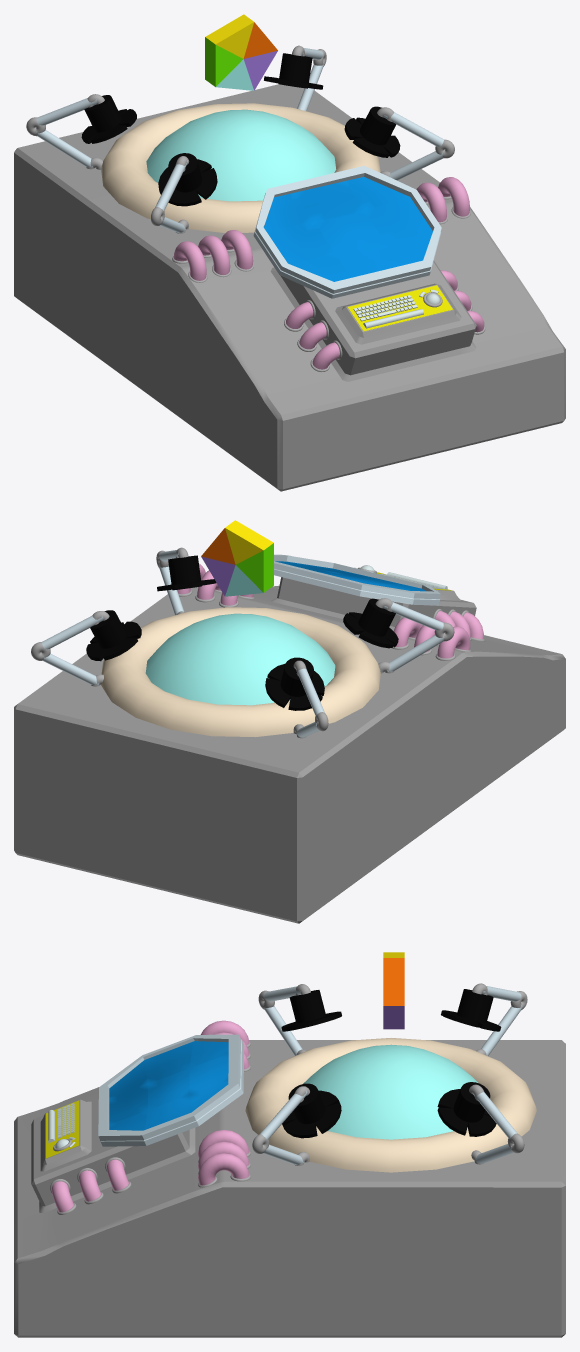
File: NAV_CodexStation_ModelwithAnimation_7152022.fbx
3 renders of one model, top to bottom at view 1: azimuth 30°, elevation 25°; view 2: azimuth 150°, elevation 25°; view 3: azimuth 270°, elevation 25°, orthographic. The views are drawn at different scales.
Visible parts, largest first — view 1: Desk, Flat_Screen, Projector_Sphere, Projector_Sphere_Ring, Projector (×4), Computer_Edge, Pipe_from_Keyboard8 (×5), Keyboard_Base, Rod1 (×2), Yellow_Slice, Green_Slice, Purple_Slice (+3 smaller); view 2: Desk, Projector_Sphere_Ring, Projector_Sphere, Projector (×4), Computer_Edge, Rod1 (×3), Rod (×2), Yellow_Slice, Pipe_from_Keyboard8 (×2), Green_Slice, Flat_Screen, Blue_Slice (+2 smaller); view 3: Desk, Projector_Sphere_Ring, Projector_Sphere, Flat_Screen, Projector (×4), Computer_Edge, Pipe_from_Keyboard8 (×4), Pipe_from_Keyboard (×3), Rod1 (×2), Rod (×2), Red_Slice, Keyboard_Base (+1 smaller).
Part boxes in pixels (x1,y1,x2,y2): Desk: (14,84,565,491); Flat_Screen: (264,177,432,281); Projector_Sphere: (146,109,336,201); Projector_Sphere_Ring: (101,103,380,233); Projector (×4): (81,53,400,206); Computer_Edge: (253,165,441,298); Pipe_from_Keyboard8 (×5): (173,177,469,280); Keyboard_Base: (347,285,452,331); Rod1 (×2): (36,98,444,146); Yellow_Slice: (205,14,253,58); Green_Slice: (205,37,242,86); Purple_Slice: (243,50,277,90); Desk: (14,577,565,923); Projector_Sphere_Ring: (101,607,380,737); Projector_Sphere: (145,613,335,705); Projector (×4): (86,555,398,710); Computer_Edge: (274,554,440,605); Rod1 (×3): (41,602,443,715); Rod (×2): (42,635,444,685); Yellow_Slice: (225,520,273,564); Pipe_from_Keyboard8 (×2): (393,617,470,658); Green_Slice: (236,543,273,592); Flat_Screen: (275,561,426,591); Blue_Slice: (225,565,262,596); Desk: (14,1040,565,1337); Projector_Sphere_Ring: (245,1038,536,1172); Projector_Sphere: (303,1044,477,1139); Flat_Screen: (109,1041,228,1130); Projector (×4): (281,989,501,1138); Computer_Edge: (98,1034,244,1146); Pipe_from_Keyboard8 (×4): (198,1020,249,1185); Pipe_from_Keyboard (×3): (51,1159,128,1212); Rod1 (×2): (260,1090,517,1139); Rod (×2): (263,1005,522,1055); Red_Slice: (383,958,404,1005); Keyboard_Base: (46,1100,79,1158).
Size of the model in its own units: 2.08 by 2.01 by 3.21.
